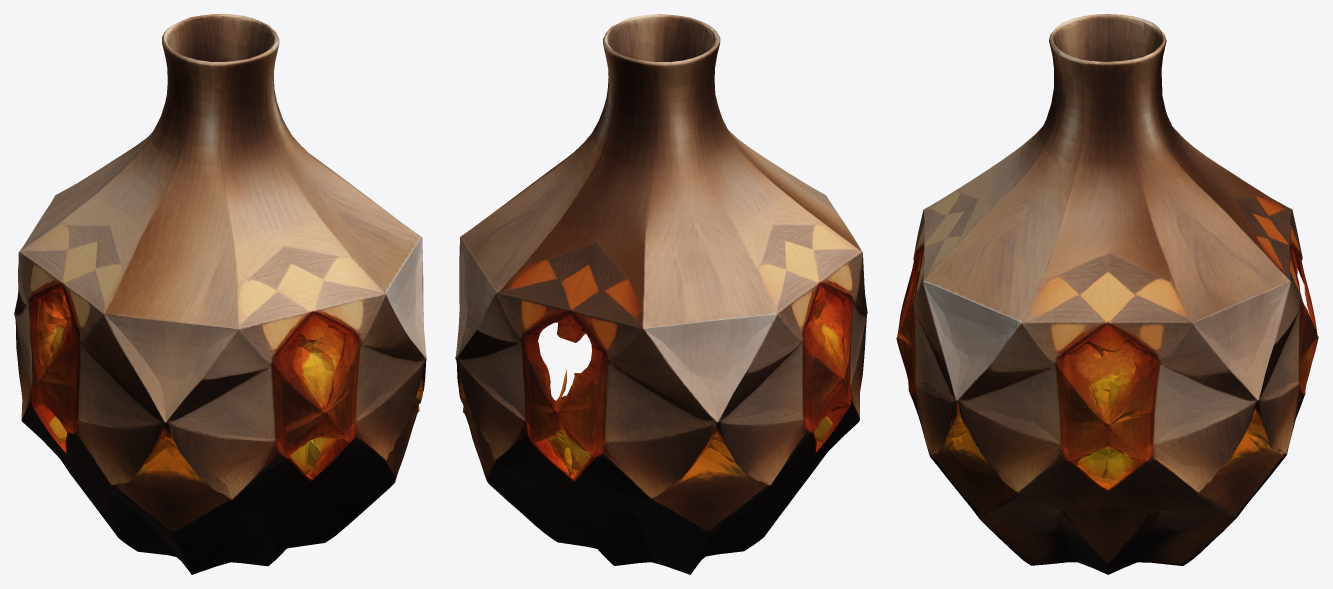
Rendered from wooden-perfume-bottle-futuristic.jpeg.glb.
3 views of the same model, side by side, from view 1: azimuth 30°, elevation 25°; view 2: azimuth 150°, elevation 25°; view 3: azimuth 270°, elevation 25° (orthographic).
Visible parts, largest first — view 1: world; view 2: world; view 3: world.
Boxes of the visible parts, x1,y1,x2,y2 form: world: [14, 14, 426, 574]; world: [455, 14, 867, 574]; world: [896, 14, 1318, 574].
Bounding box in the file's own units: 0.7709 × 1 × 0.7728.
1 material, 1 textured.
